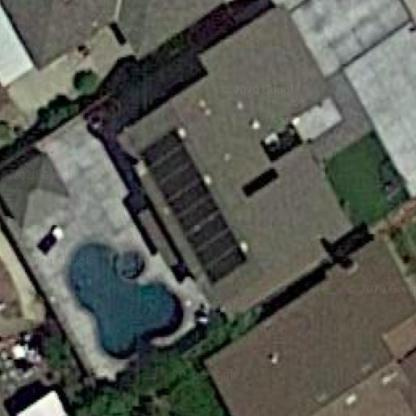solar_panel: (137, 116, 254, 285)
swimming_pool: (59, 236, 186, 361)
